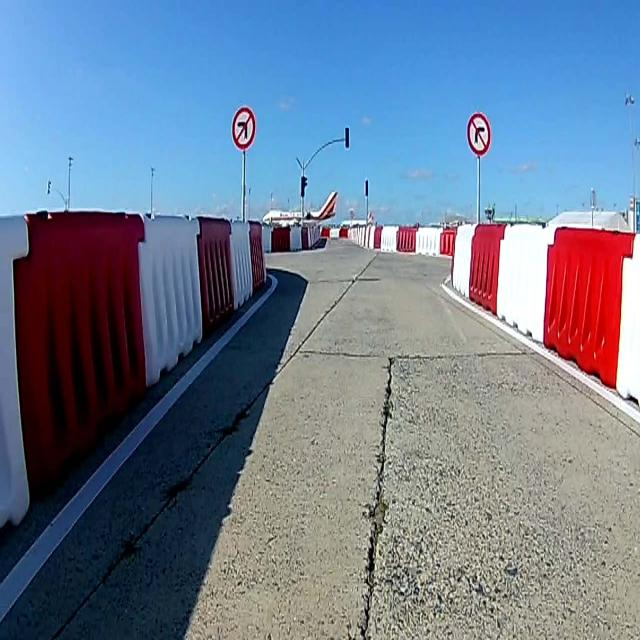sagadonulmez: (468, 113, 490, 155)
soladonulmez: (232, 108, 255, 148)
